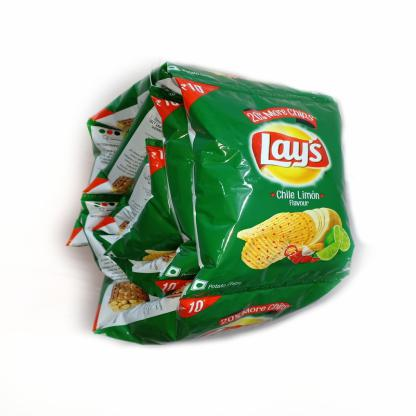chile_limon: (179, 71, 357, 292), (92, 292, 352, 348), (69, 76, 148, 246), (147, 99, 200, 276)
